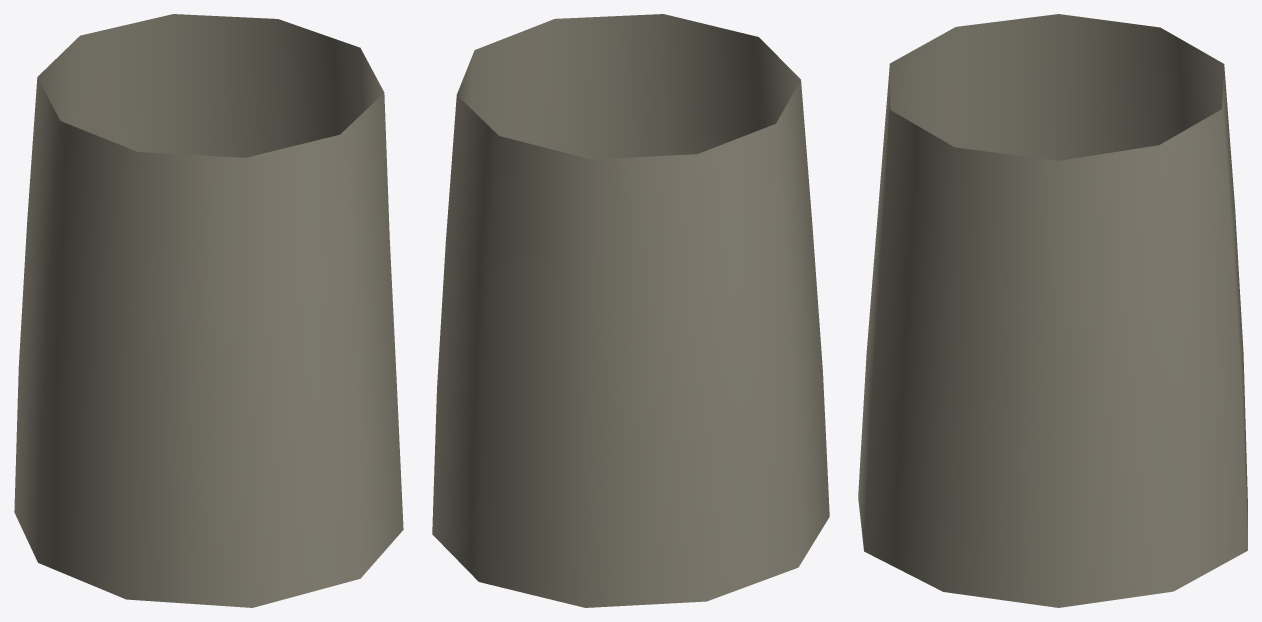
File: necro_armor_bracer.L.glb
3 renders of one model, left to right at view 1: azimuth 30°, elevation 25°; view 2: azimuth 150°, elevation 25°; view 3: azimuth 270°, elevation 25°, orthographic.
Visible parts, largest first — view 1: necro_armor_bracer.L; view 2: necro_armor_bracer.L; view 3: necro_armor_bracer.L.
Part boxes in pixels (x1,y1,x2,y2): necro_armor_bracer.L: (14,14,403,607); necro_armor_bracer.L: (432,14,829,607); necro_armor_bracer.L: (858,14,1247,607).
Bounding box in the file's own units: 0.1277 × 0.1562 × 0.126.
